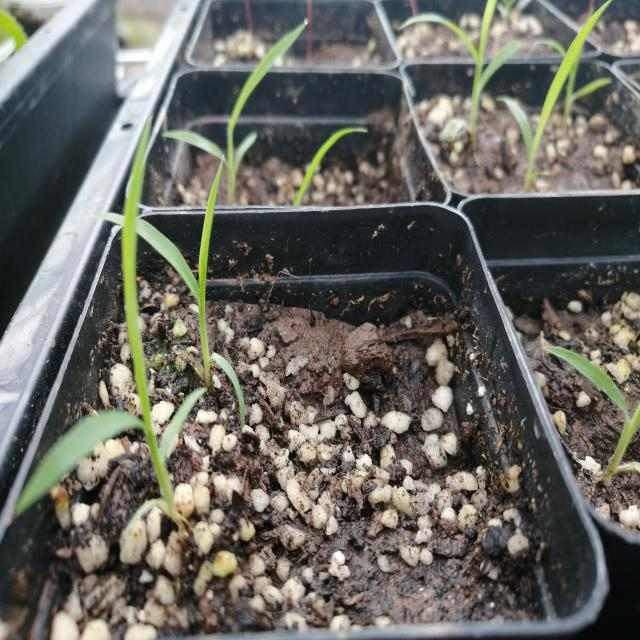crabgrass: (32, 146, 216, 520), (130, 168, 270, 418)
